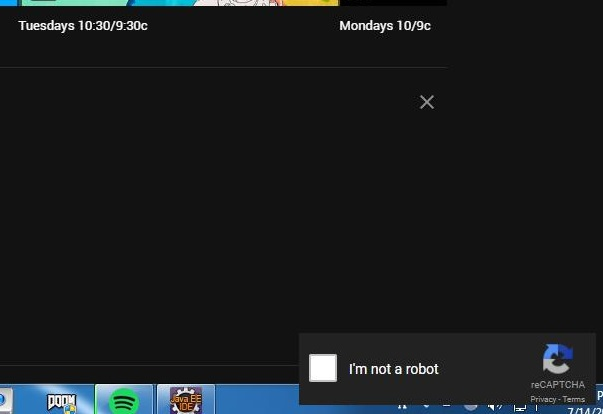captcha: (308, 353, 439, 383)
